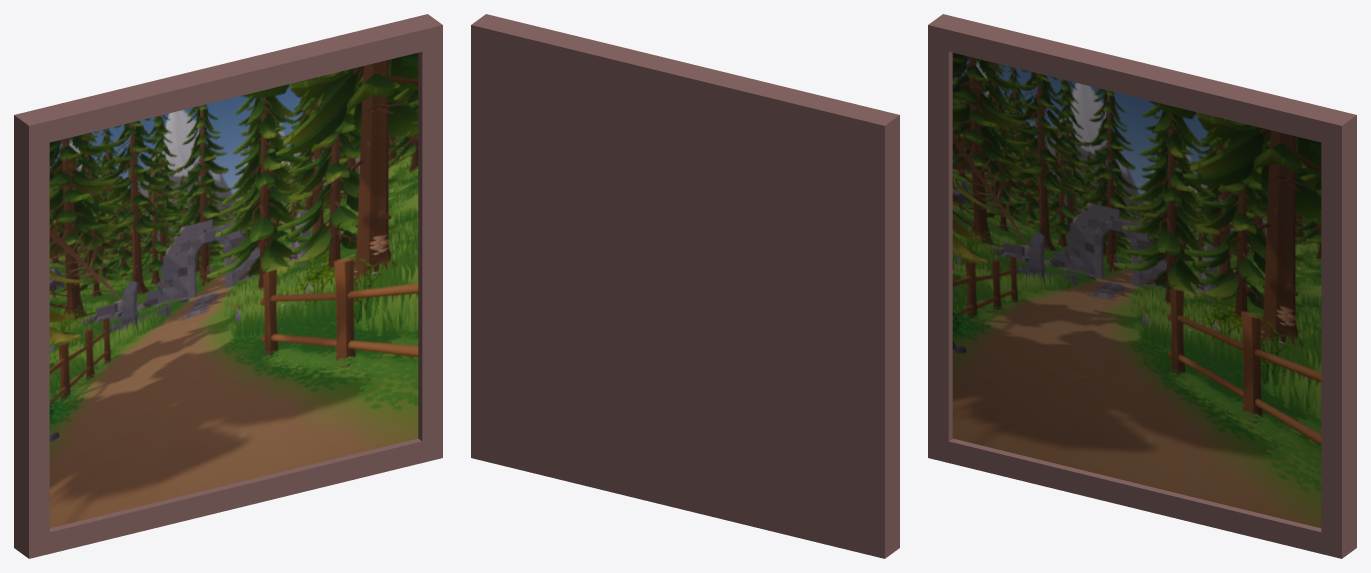
Rendered from paint.fbx.
3 renders of one model, left to right at view 1: azimuth 30°, elevation 25°; view 2: azimuth 150°, elevation 25°; view 3: azimuth 330°, elevation 25°, orthographic.
Visible parts, largest first — view 1: Painting_03; view 2: Painting_03; view 3: Painting_03.
Boxes of the visible parts, <box> form: Painting_03: <box>14,14,442,558</box>; Painting_03: <box>471,14,899,558</box>; Painting_03: <box>928,14,1356,558</box>.
Size of the model in its own units: 50 by 50 by 3.14.
